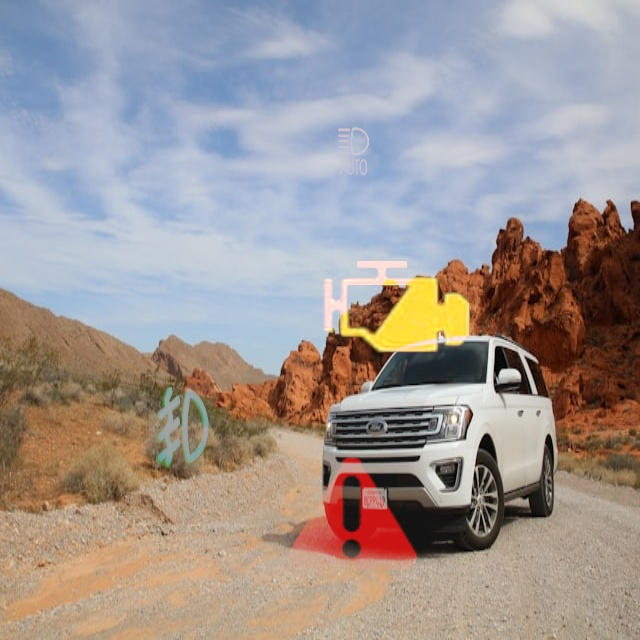symbol: (288, 200, 502, 414), (74, 326, 287, 539), (248, 412, 454, 618), (284, 87, 422, 225)
